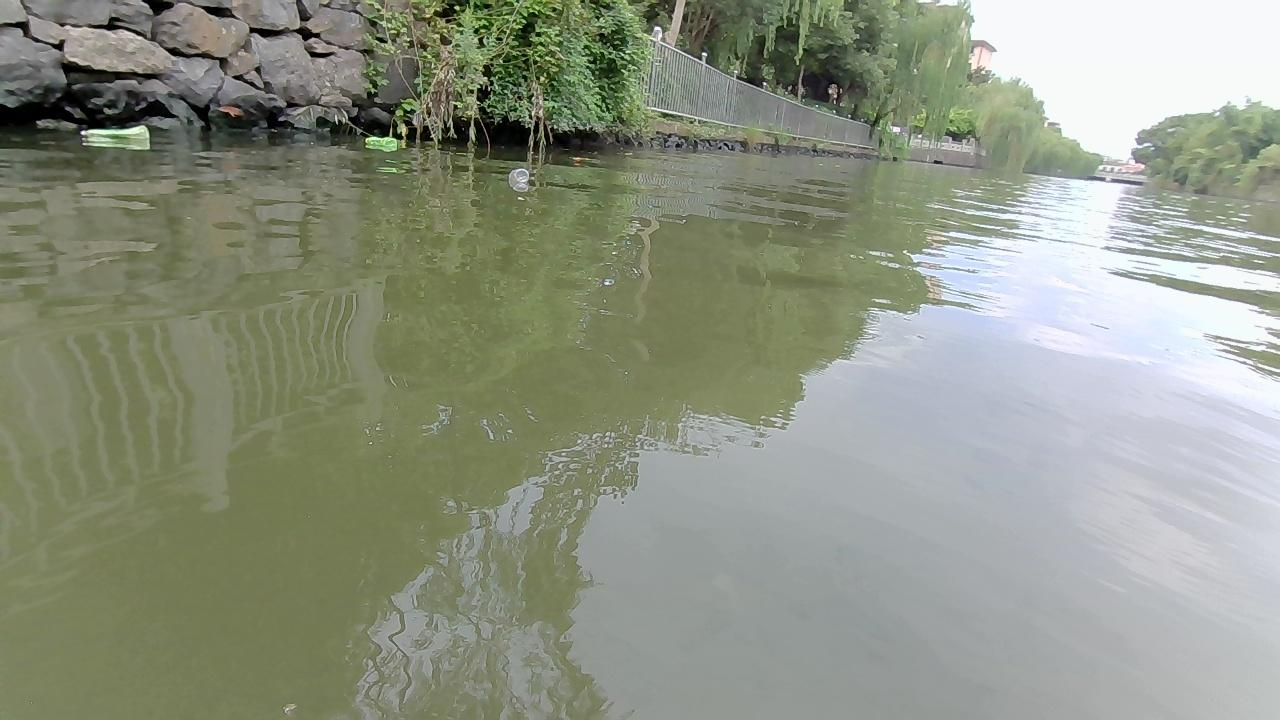bottle: (79, 123, 149, 141), (363, 135, 396, 146), (507, 168, 529, 182)
